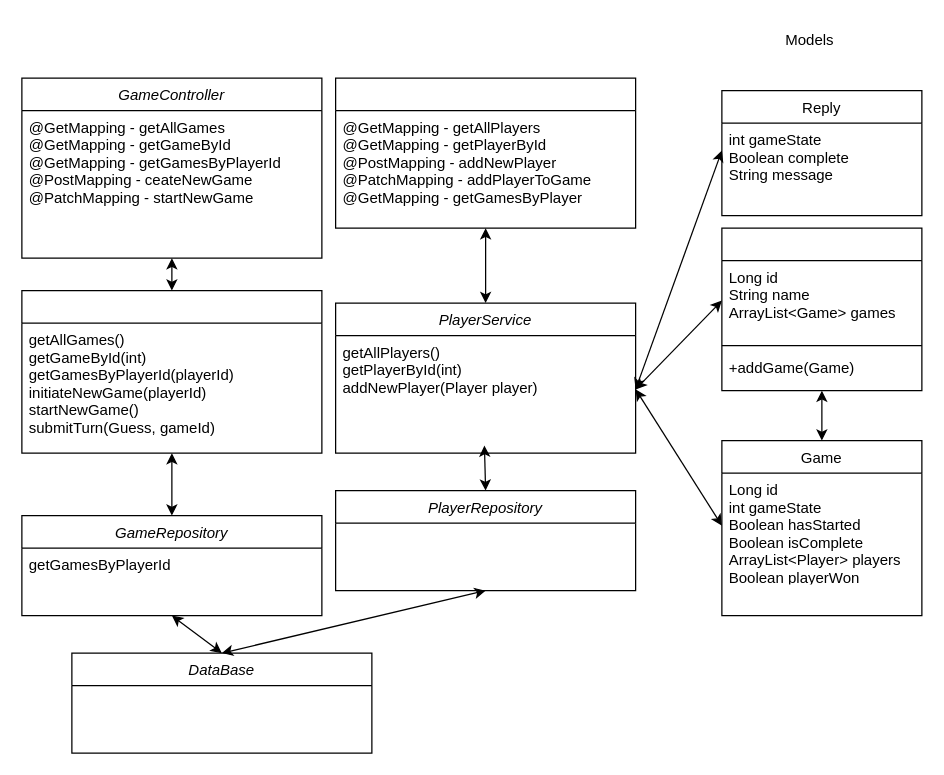
This 944x775 diagram has some shape labels left out. The box of each missing label's shape, as (x1, y1, x2, y2) in pixels:
GameService: (21, 289, 322, 453)
Player: (721, 227, 922, 391)
PlayerController: (334, 77, 636, 228)
